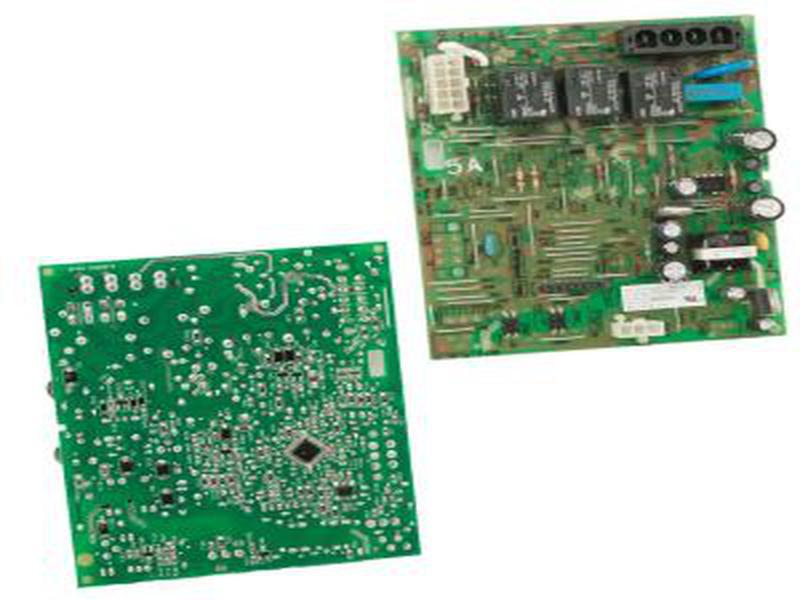circuit_board: (32, 238, 431, 594), (395, 8, 790, 361)
